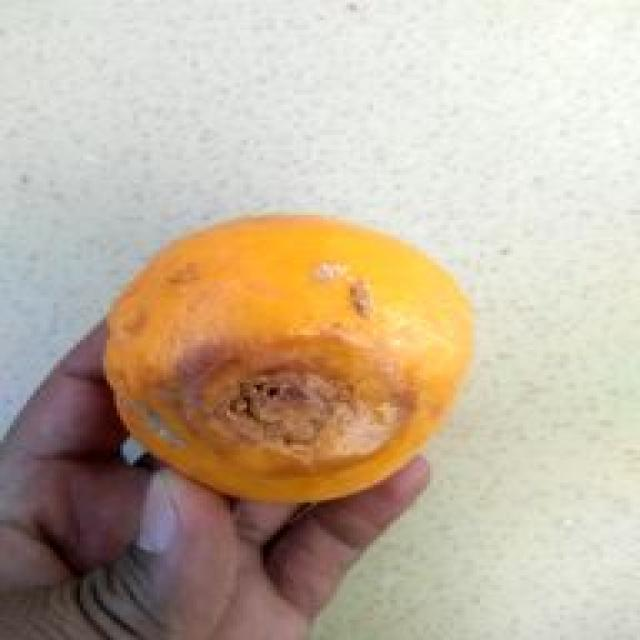Bad_Orange: (105, 215, 472, 502)
